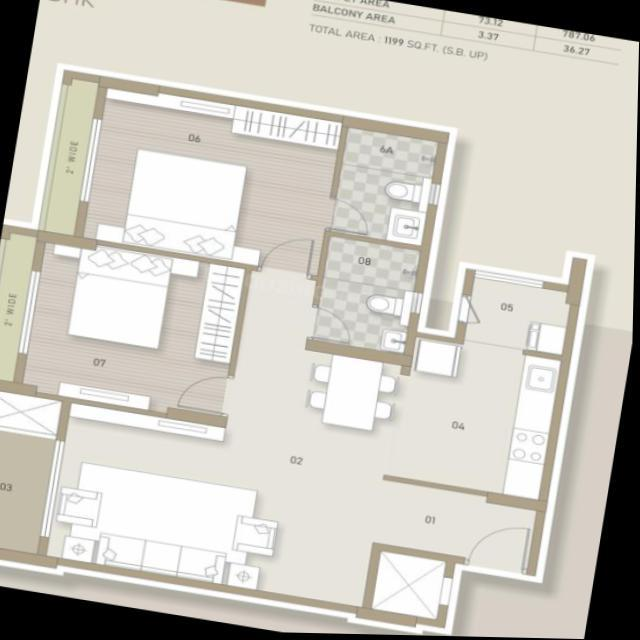Balcony-Sitout: (39, 77, 99, 240), (0, 434, 62, 557), (0, 233, 38, 384)
Bedroom: (24, 240, 250, 424)
Bedroom with Toilet: (82, 84, 443, 279)
Dining: (301, 352, 403, 444)
Enterance-Foyer: (377, 482, 538, 575)
Kitchen: (396, 338, 561, 499)
Living: (50, 406, 389, 608)
Toilet: (316, 237, 421, 355), (333, 129, 438, 246)
Utility: (466, 278, 572, 355)
